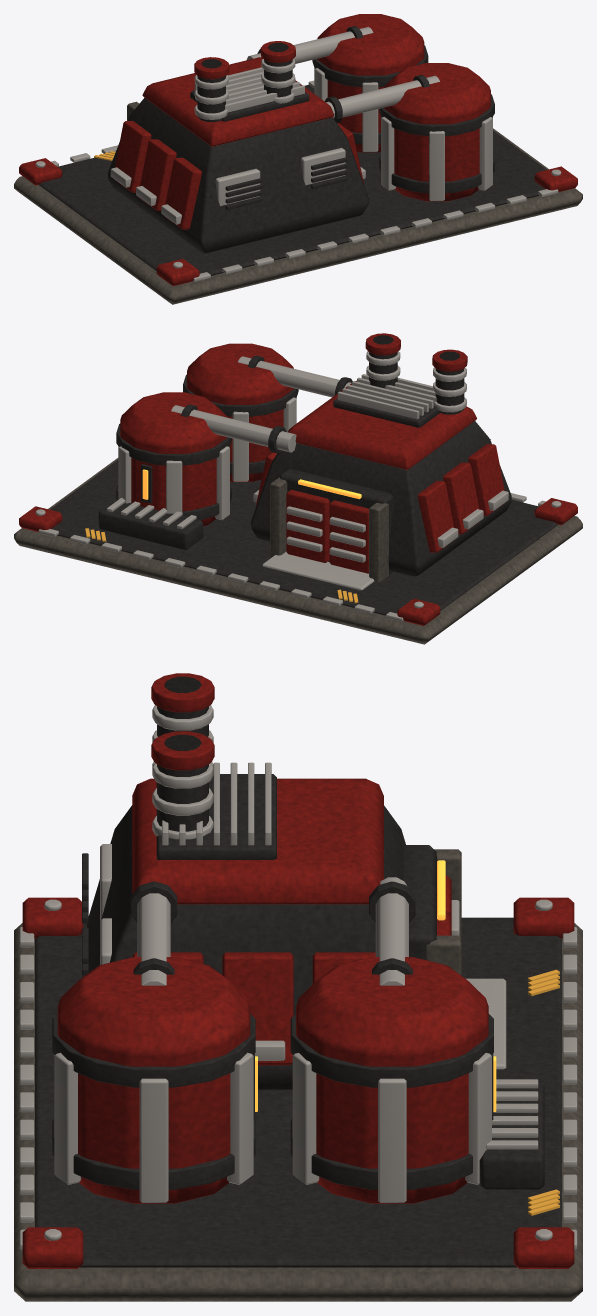
The model's file is kharn_raffinerie_lourde.gltf.
3 renders of one model, top to bottom at view 1: azimuth 30°, elevation 25°; view 2: azimuth 150°, elevation 25°; view 3: azimuth 270°, elevation 25°, orthographic. The views are drawn at different scales.
Visible parts, largest first — view 1: Root.002_Geometry; view 2: Root.002_Geometry, Door_R.001_Geometry, Door_L.001_Geometry; view 3: Root.002_Geometry.
Part boxes in pixels (bbox=[...]): Root.002_Geometry: bbox=[14, 14, 582, 304]; Root.002_Geometry: bbox=[14, 333, 582, 644]; Door_R.001_Geometry: bbox=[286, 489, 330, 562]; Door_L.001_Geometry: bbox=[329, 500, 368, 573]; Root.002_Geometry: bbox=[14, 673, 582, 1301].
Size of the model in its own units: 5.94 by 2.58 by 3.94.
7 materials, 4 textured.
